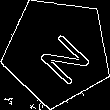N_NW: (25, 19, 89, 84)
